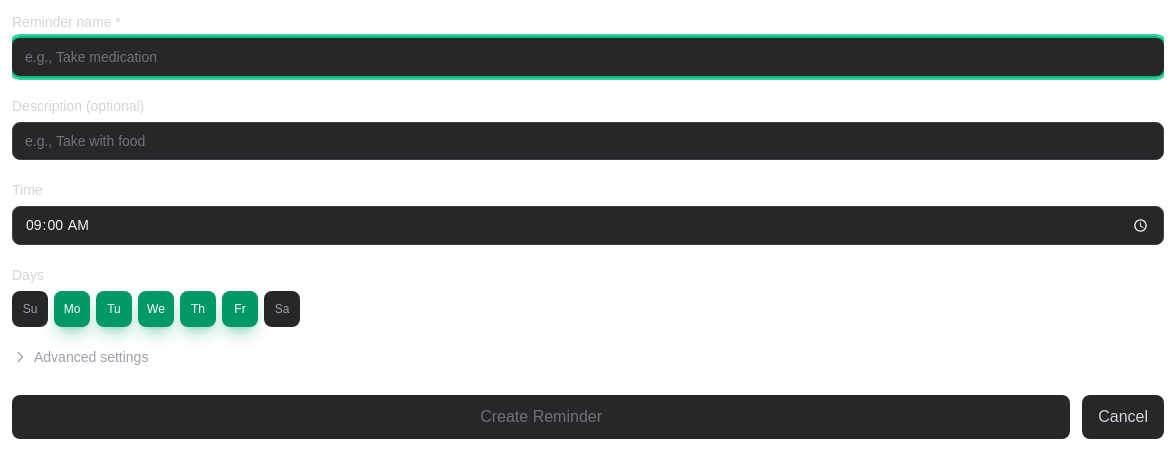
ReminderForm Component › Validation › should show error message when no days selected
Click the button with aria-label "monday": (72, 309) [54,291,90,327]
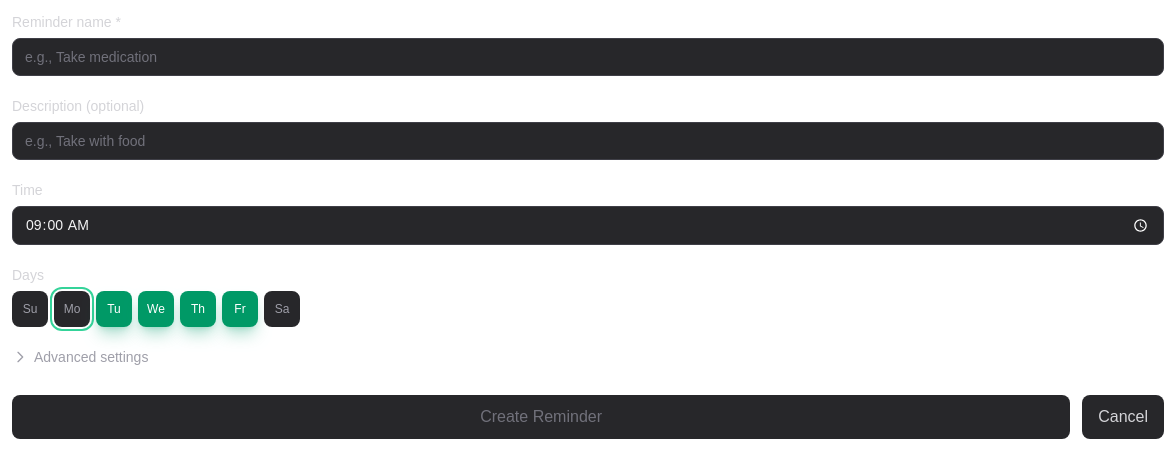
Click the button with aria-label "tuesday": (114, 309) [96,291,132,327]
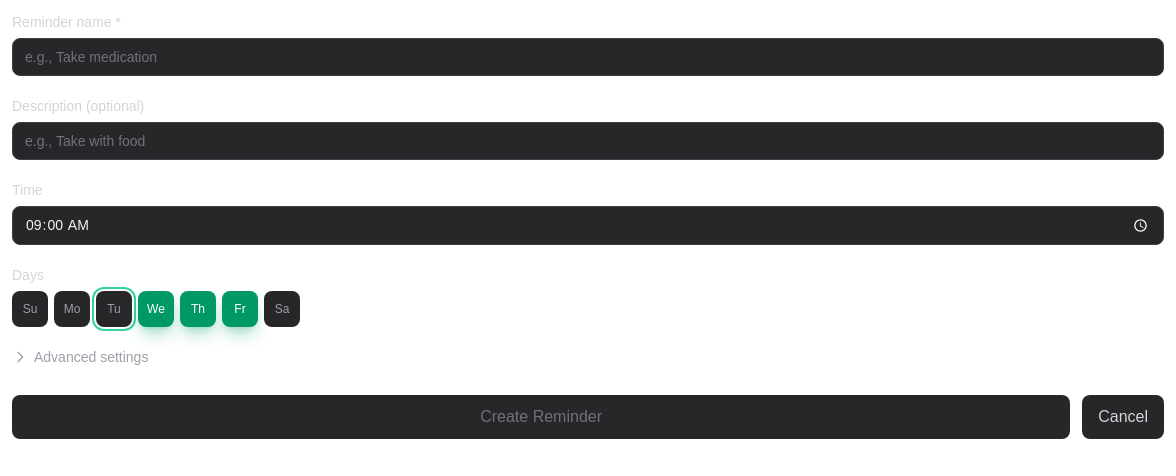
Click the button with aria-label "wednesday": (156, 309) [138,291,174,327]
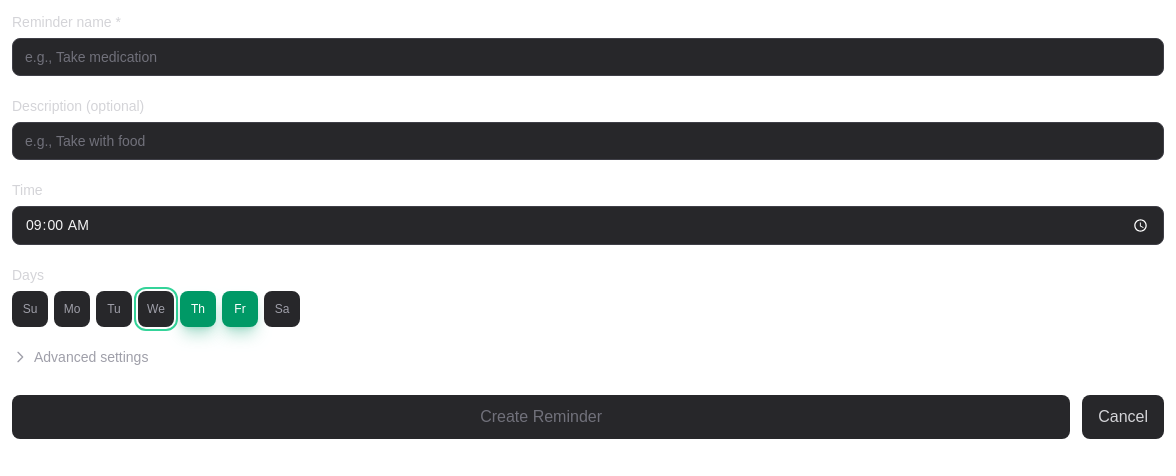
Click the button with aria-label "thursday": (198, 309) [180,291,216,327]
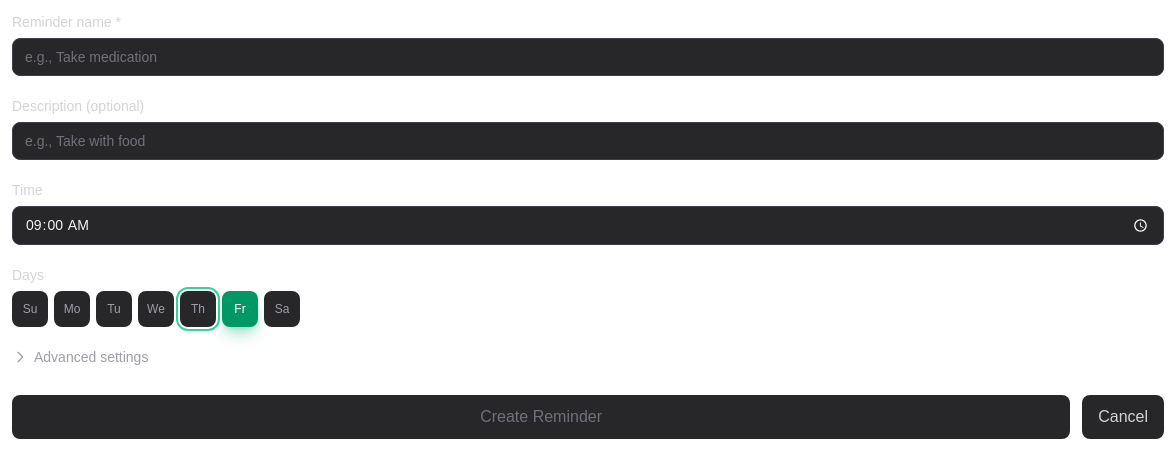
Click the button with aria-label "friday": (240, 309) [222,291,258,327]
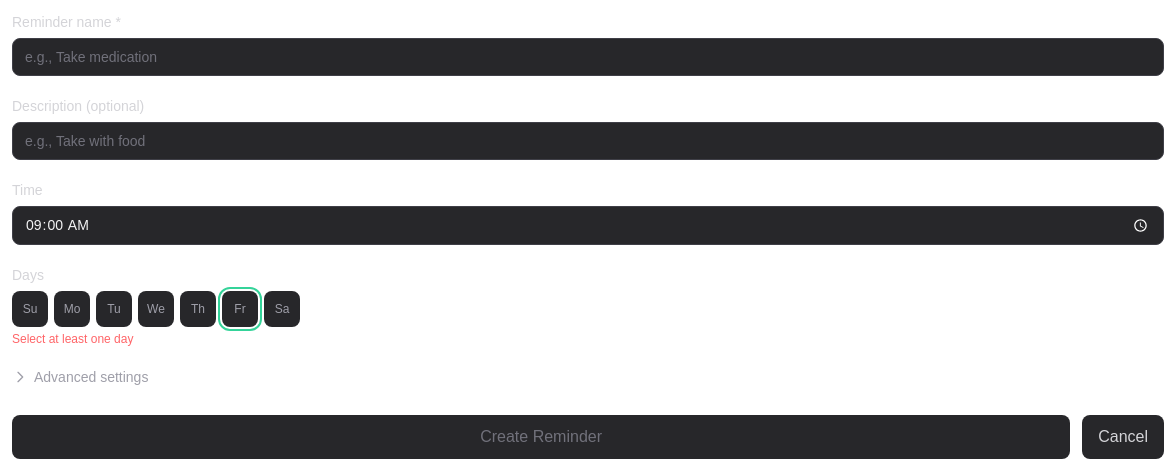
Expected: the text "Select at least one day" is shown, [12,332,133,346]
